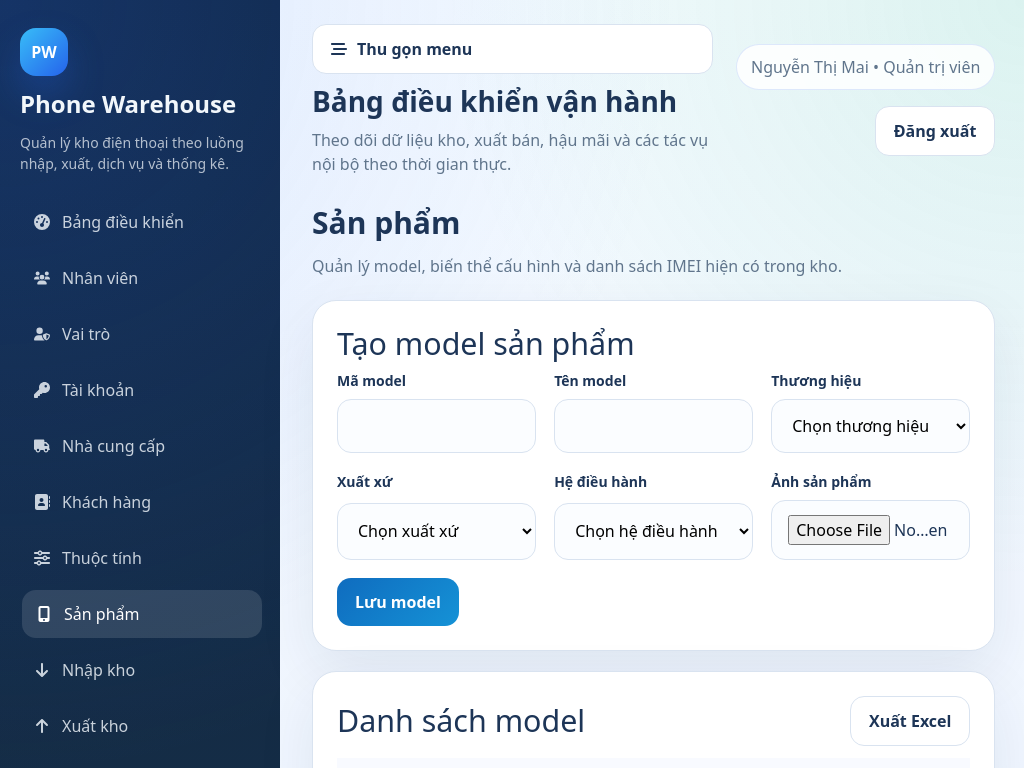
Test: Product pages › loads product data and creates a new model
Type "IP15" into the field labelled "Mã model".
click(437, 426); type("IP15")  # box [337,399,536,453]
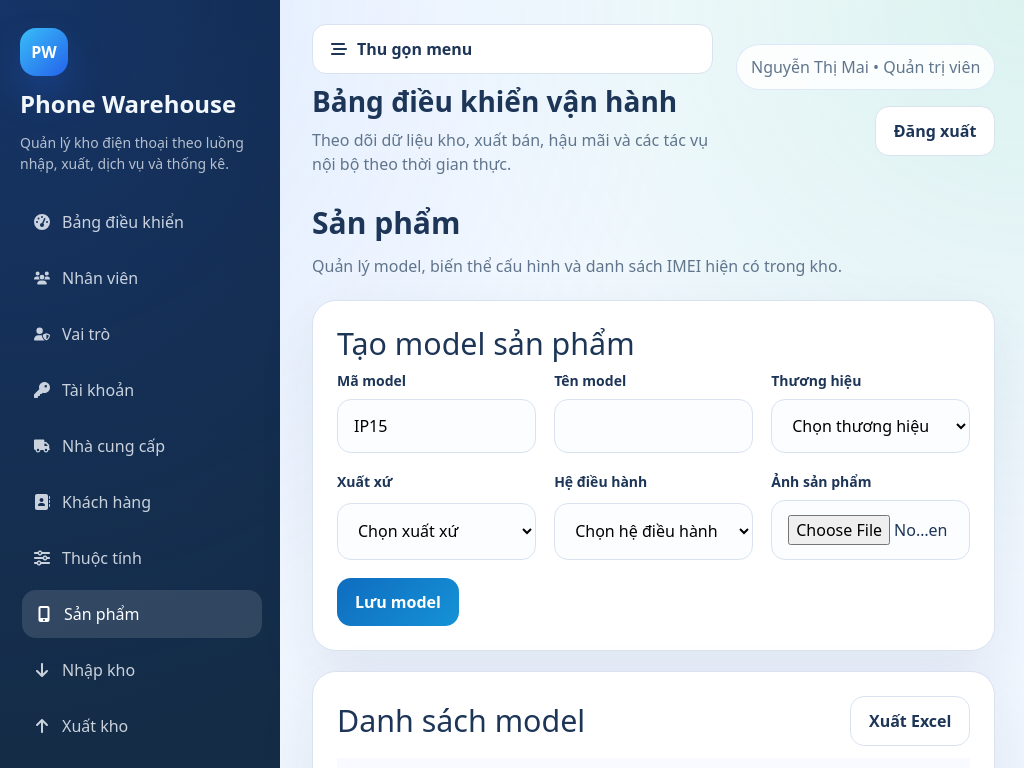
Type "iPhone 15" into the field labelled "Tên model".
click(654, 426); type("iPhone 15")  # box [554,399,753,453]
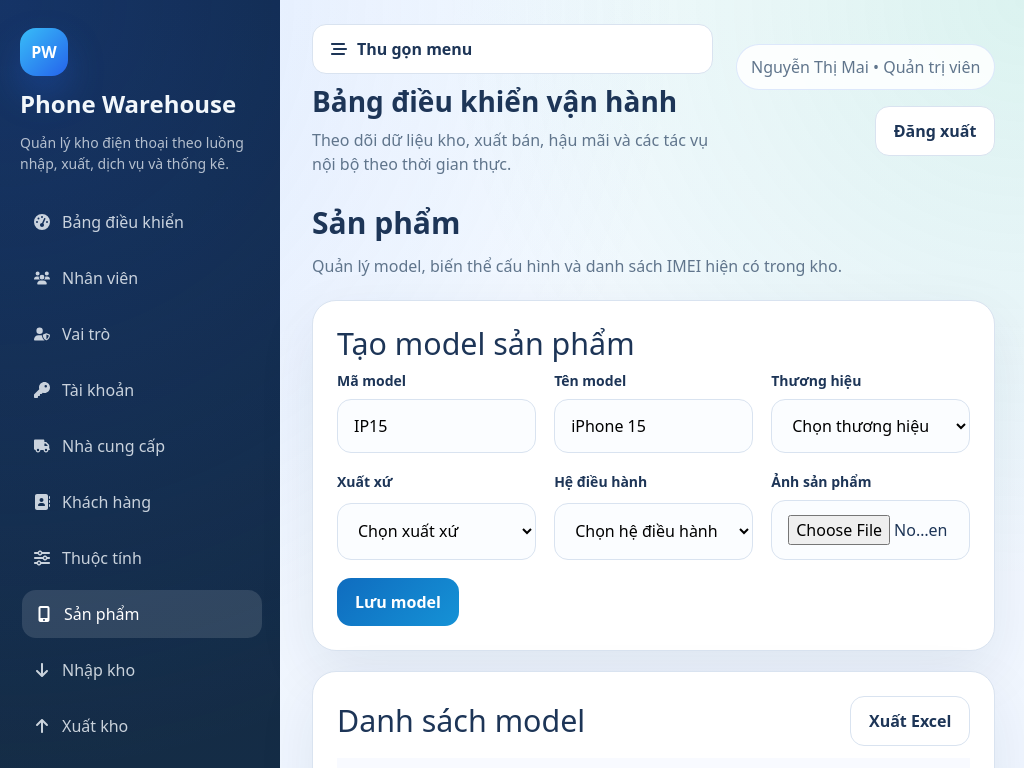
Select "Apple" in the dropdown labelled "Thương hiệu" at {"x": 871, "y": 426}, box [771,399,970,453]
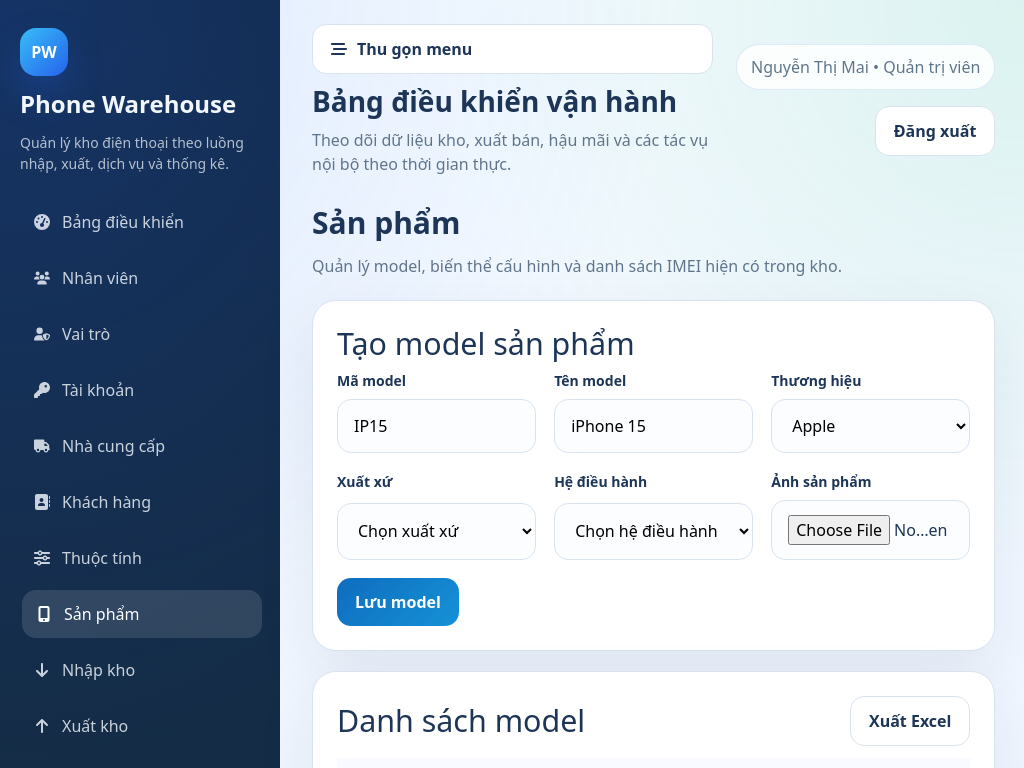
Select "Việt Nam" in the dropdown labelled "Xuất xứ" at {"x": 437, "y": 531}, box [337,503,536,560]
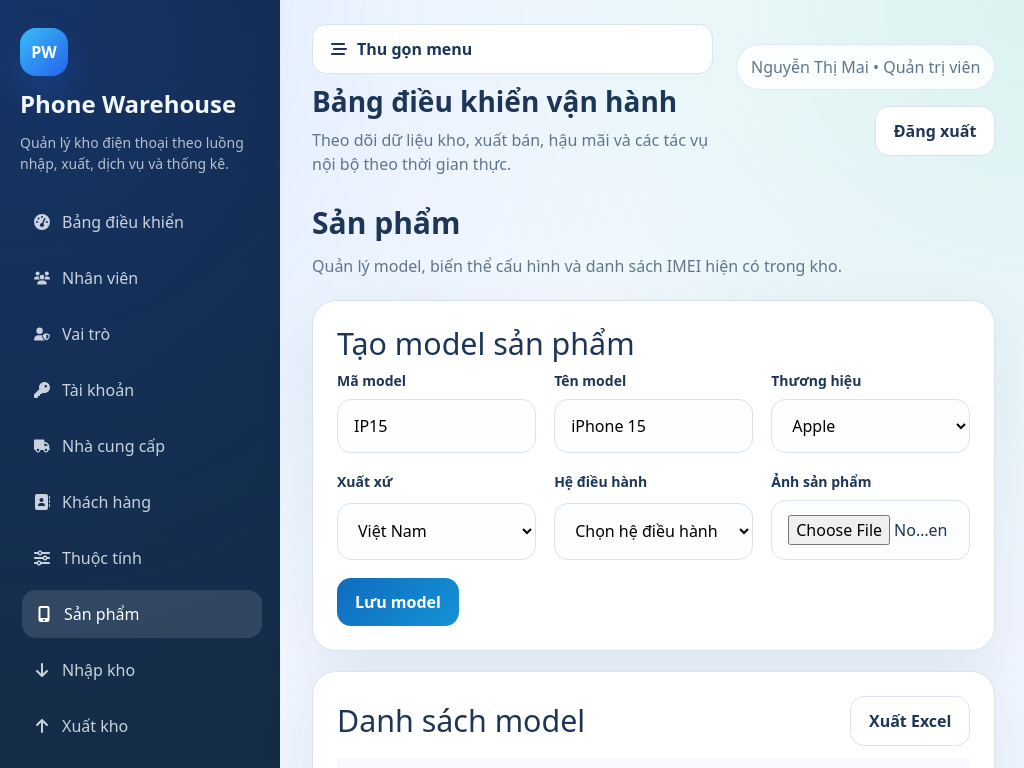
Select "iOS" in the dropdown labelled "Hệ điều hành" at {"x": 654, "y": 531}, box [554,503,753,560]
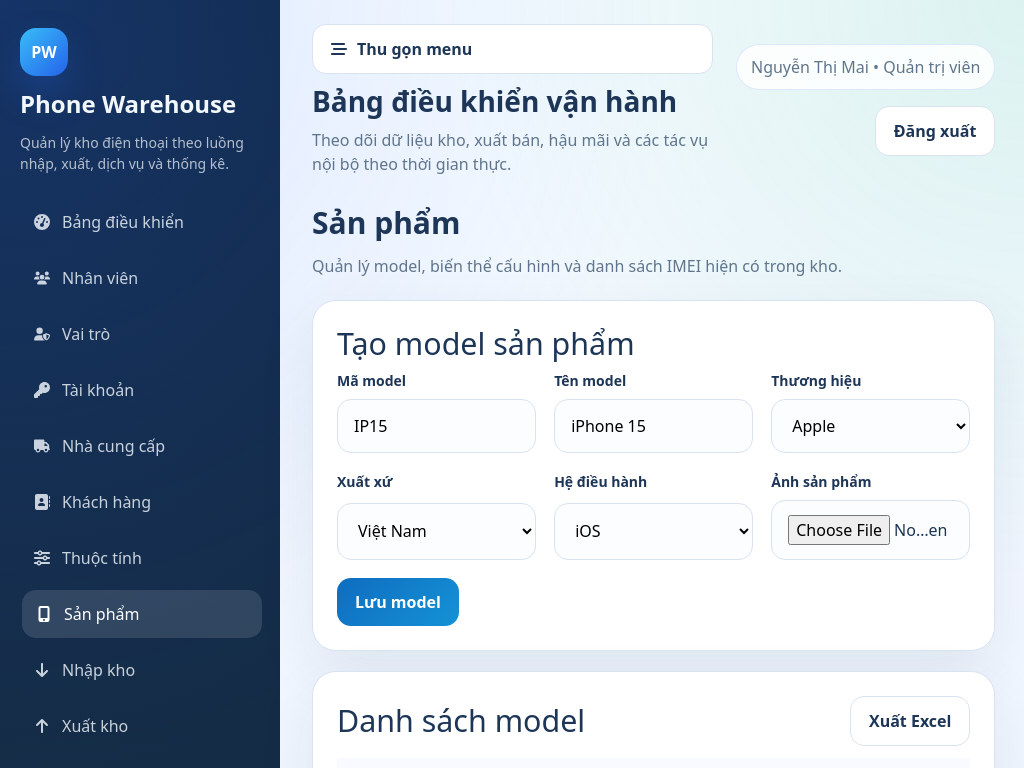
Click the button "Lưu model".
click(398, 602)  # box [337,578,459,626]
(page scrolled)
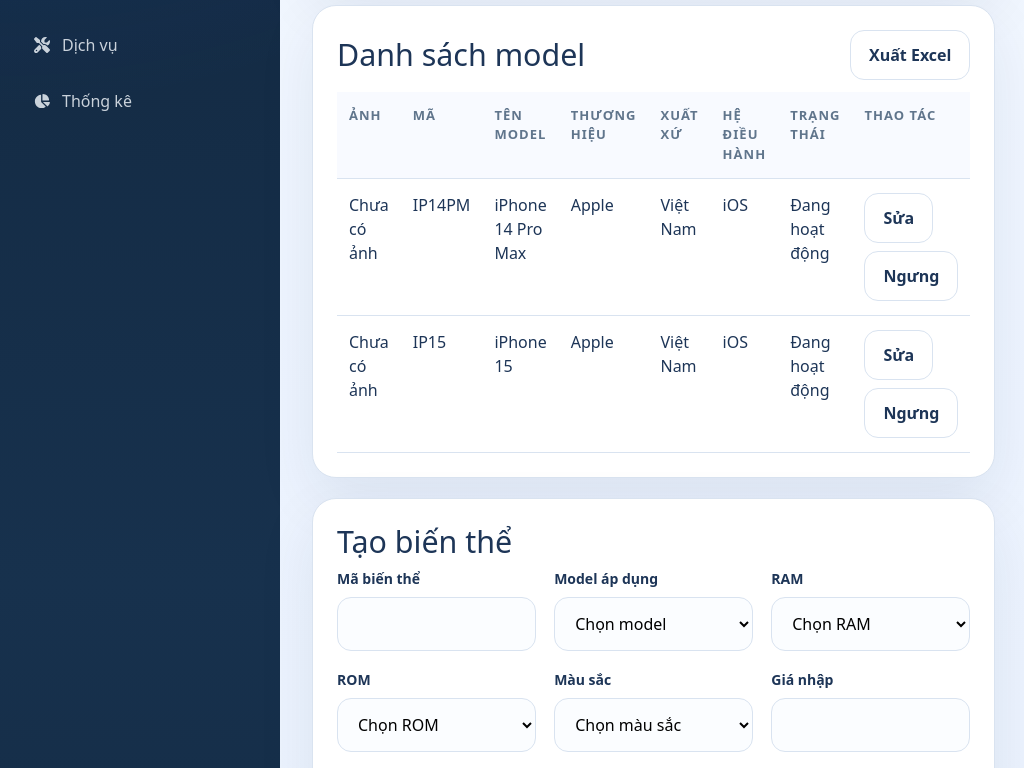
Result: the text "iPhone 15" is shown at [482,316,559,453]
